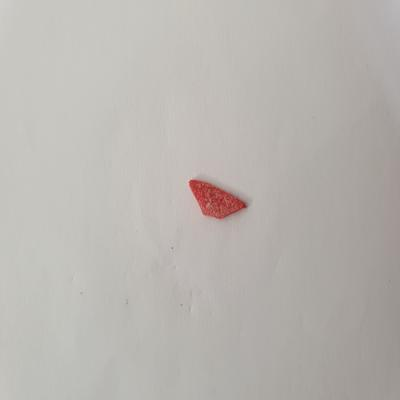plastic: (184, 176, 251, 224)
